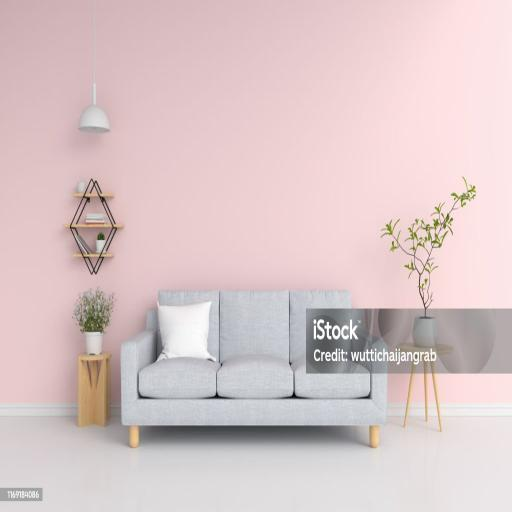back_cushion: (159, 290, 368, 362)
base: (128, 399, 385, 424)
left_arm: (369, 361, 387, 424), (374, 340, 385, 354)
legs: (370, 426, 378, 446), (130, 426, 138, 446)
right_arm: (121, 328, 156, 424)
seat_cushion: (139, 355, 370, 398)
stallion-sofa2: (122, 290, 388, 447)
